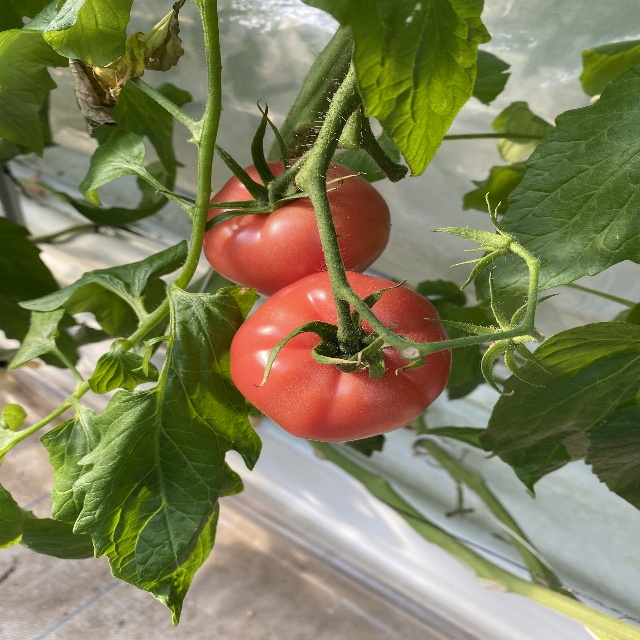b_fully_ripened: (230, 270, 452, 442), (202, 160, 391, 297)
